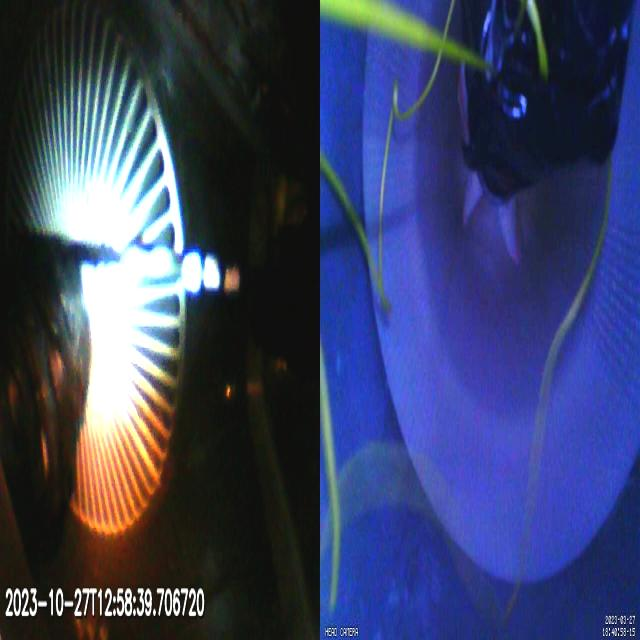white-dots: (179, 248, 240, 294)
